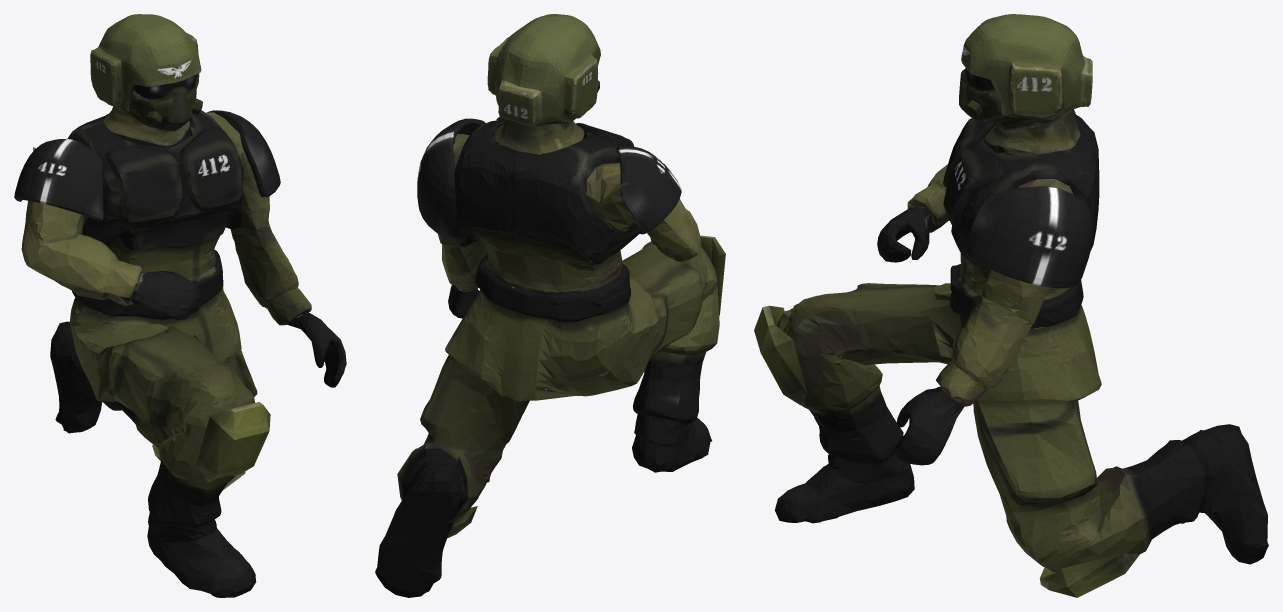
File: ig kneeling.obj
3 renders of one model, left to right at view 1: azimuth 30°, elevation 25°; view 2: azimuth 150°, elevation 25°; view 3: azimuth 270°, elevation 25°, orthographic. The views are drawn at different scales.
Parts seen in each view (by area): view 1: Object.1; view 2: Object.1; view 3: Object.1.
Part boxes in pixels (x1,y1,x2,y2): Object.1: [14, 14, 346, 597]; Object.1: [375, 14, 725, 597]; Object.1: [754, 14, 1268, 597].
Size of the model in its own units: 9.11 by 15.87 by 13.85.
Materials: 5 (5 with a texture image).
